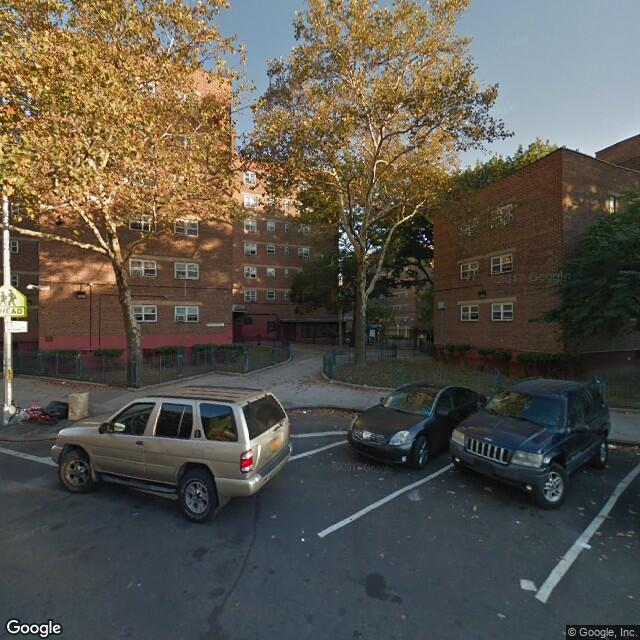litter: (520, 578, 536, 590), (580, 542, 590, 550), (302, 410, 307, 413)
